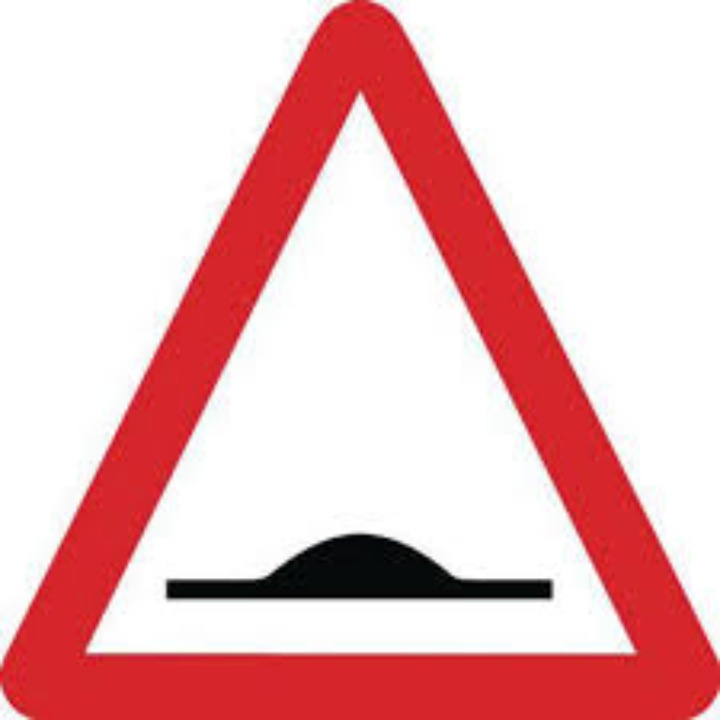bump: (143, 518, 581, 620)
